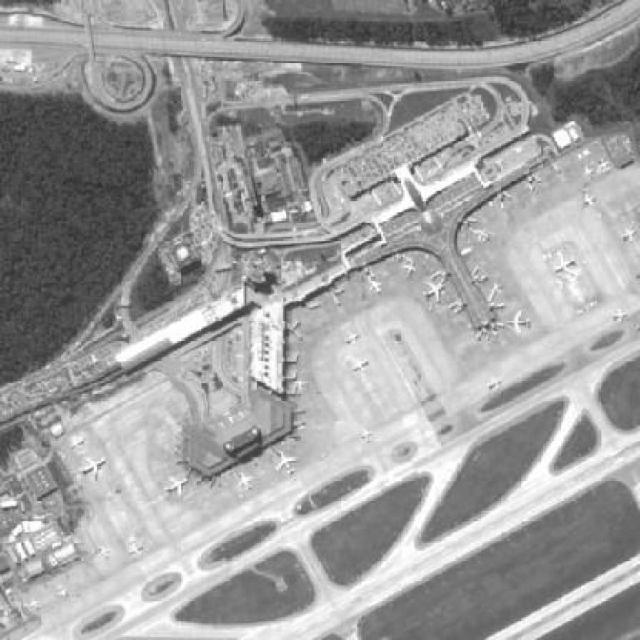airplane: (272, 448, 306, 479), (79, 456, 112, 483), (162, 473, 193, 500), (553, 254, 584, 280), (504, 309, 532, 336), (424, 280, 449, 307), (234, 470, 257, 492), (358, 427, 379, 444), (351, 359, 373, 375), (368, 279, 388, 295), (610, 310, 632, 324), (343, 330, 362, 346), (53, 586, 73, 601), (68, 437, 85, 454), (620, 229, 640, 243), (294, 378, 311, 393), (129, 541, 144, 558), (583, 195, 599, 210), (490, 280, 504, 297), (404, 261, 418, 278), (29, 599, 44, 613), (98, 546, 112, 561), (487, 379, 504, 391), (598, 159, 612, 172), (584, 166, 596, 180), (633, 322, 640, 340)
